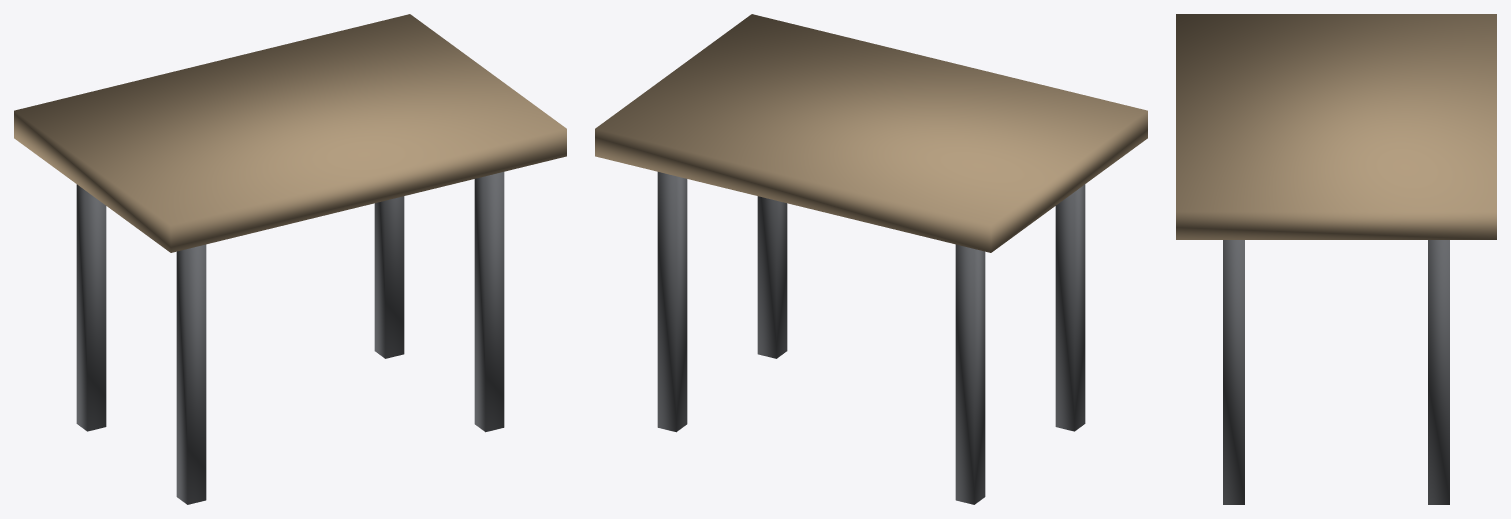
File: diner_four_top.glb
The picture shows the model from 3 angles, left to right: view 1: azimuth 30°, elevation 25°; view 2: azimuth 150°, elevation 25°; view 3: azimuth 270°, elevation 25°; orthographic projection. The views are drawn at different scales.
Parts seen in each view (by area): view 1: world; view 2: world; view 3: world.
Part boxes in pixels (box(x1,y1,x2,y2)): world: box(14, 14, 566, 504); world: box(595, 14, 1147, 504); world: box(1176, 14, 1496, 504).
Bounding box in the file's own units: 1.05 × 0.775 × 0.72.
